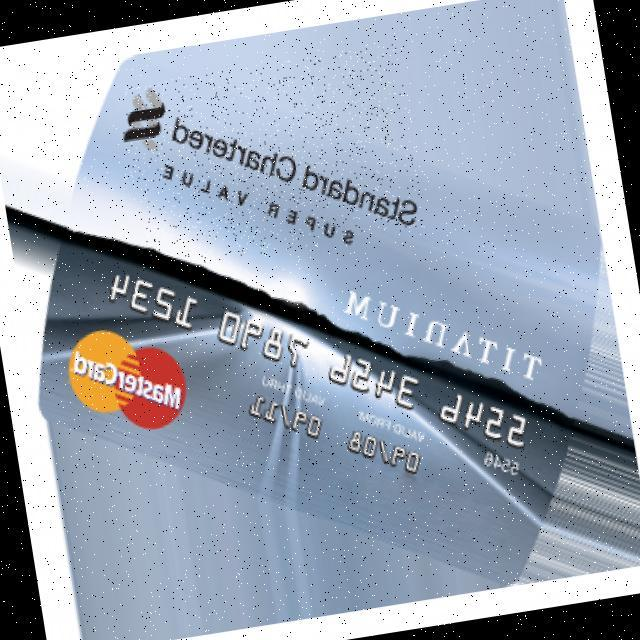Standard Chartered: (115, 44, 426, 272)
